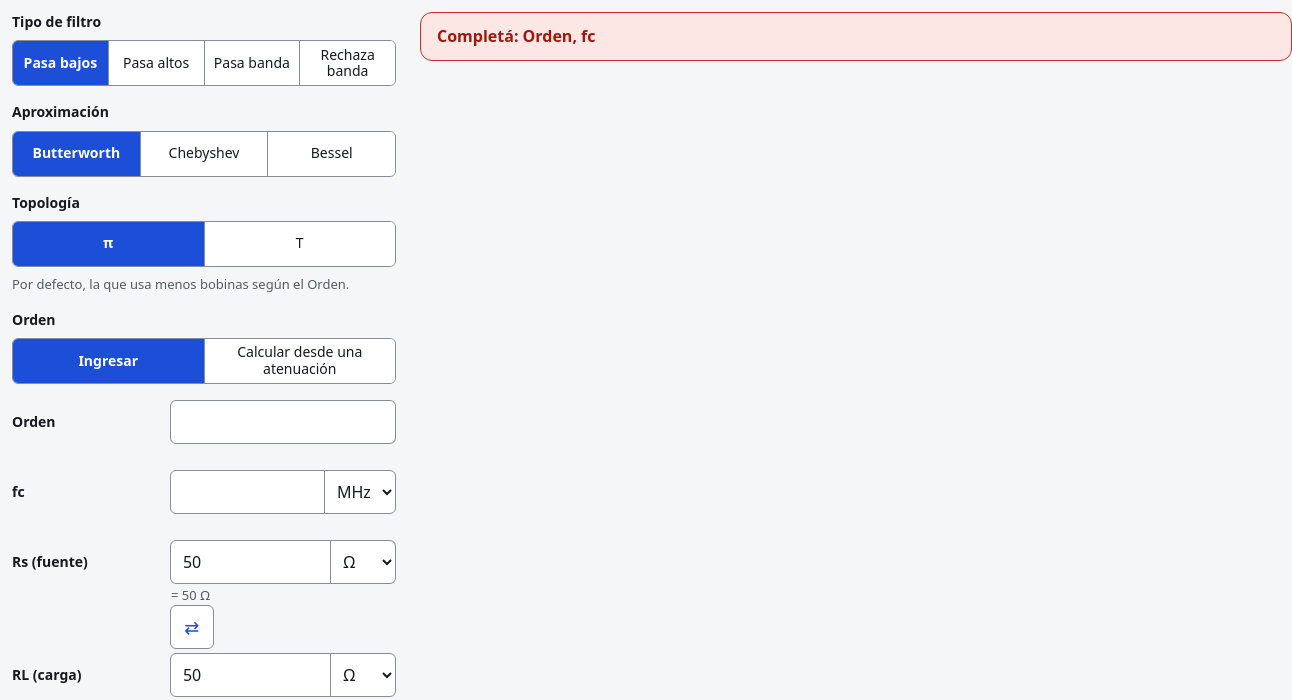
Test case: la Topología de resonadores acoplados en la pantalla de filtros › solo se ofrece en pasa banda
The width and height of the screenshot is (1292, 700).
expect the field labelled "Resonadores acoplados" is not shown: met
Click the radio button labelled "Pasa banda".
click(251, 63)  # box left=204, top=41, right=299, bottom=85
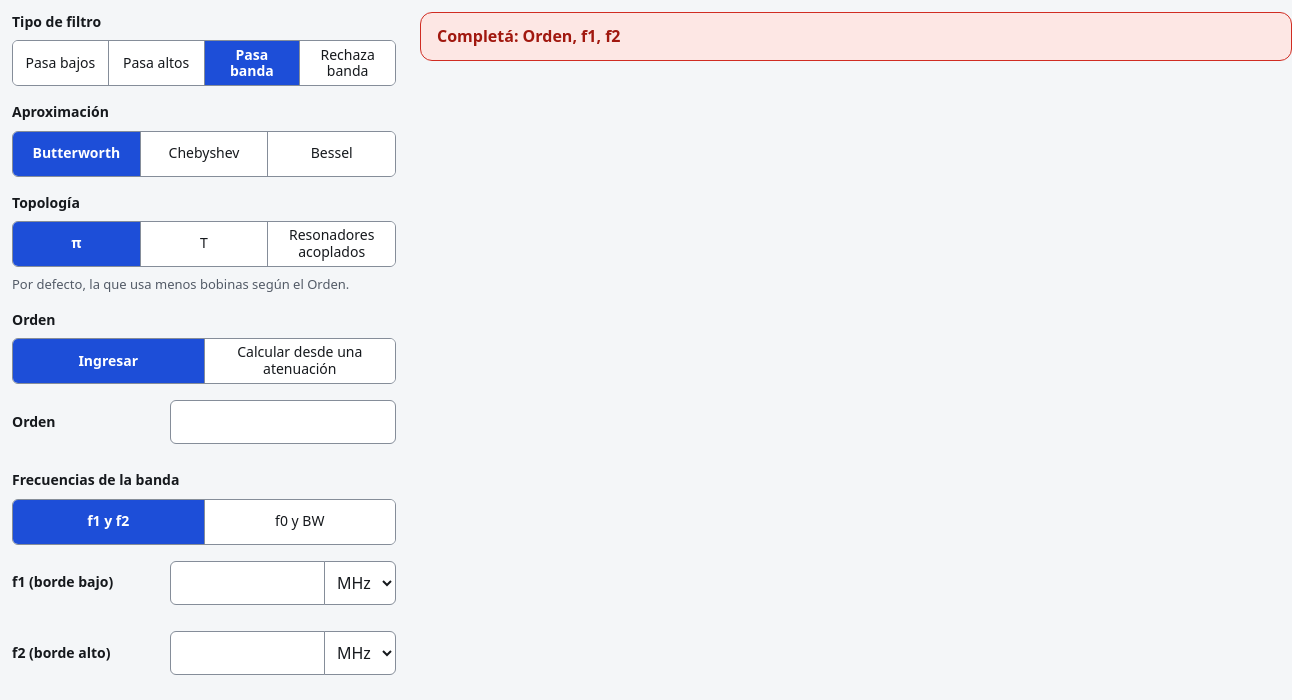
expect the radio button labelled "Resonadores acoplados" is shown: met, box left=267, top=222, right=395, bottom=266
Click the radio button labelled "Rechaza banda".
click(347, 63)  # box left=299, top=41, right=395, bottom=85
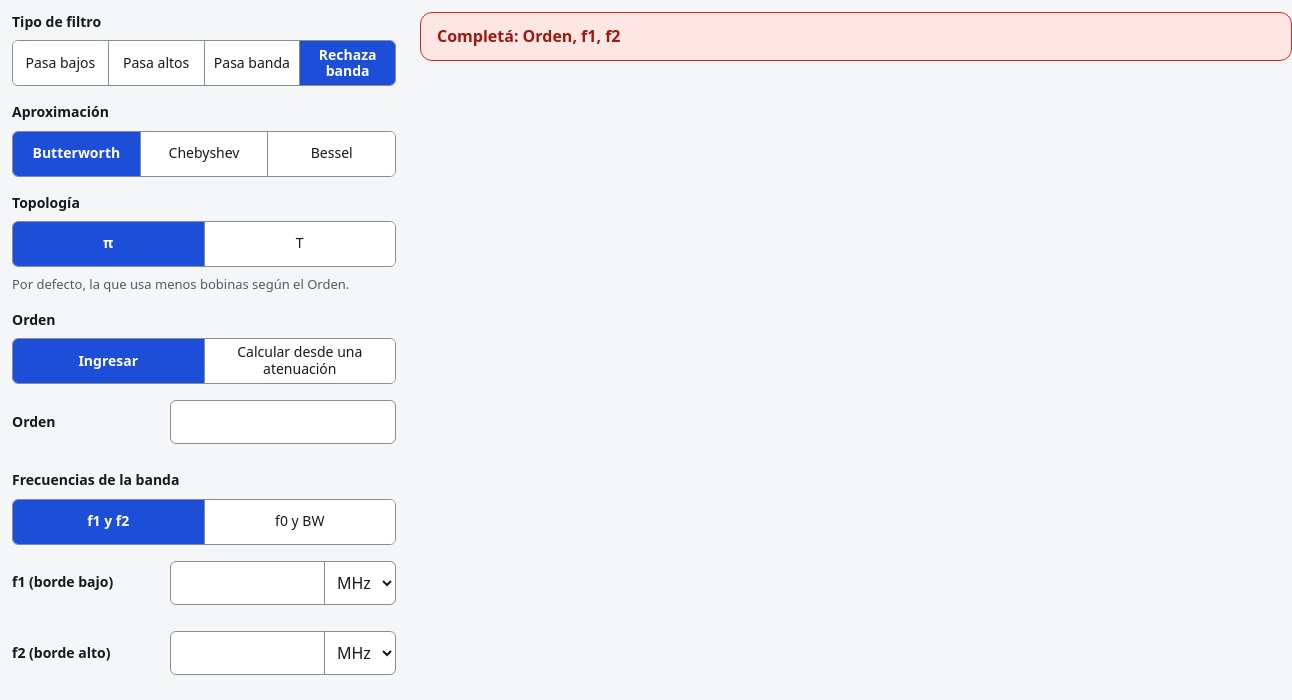
expect the text labelled "Resonadores acoplados" is gone: met
